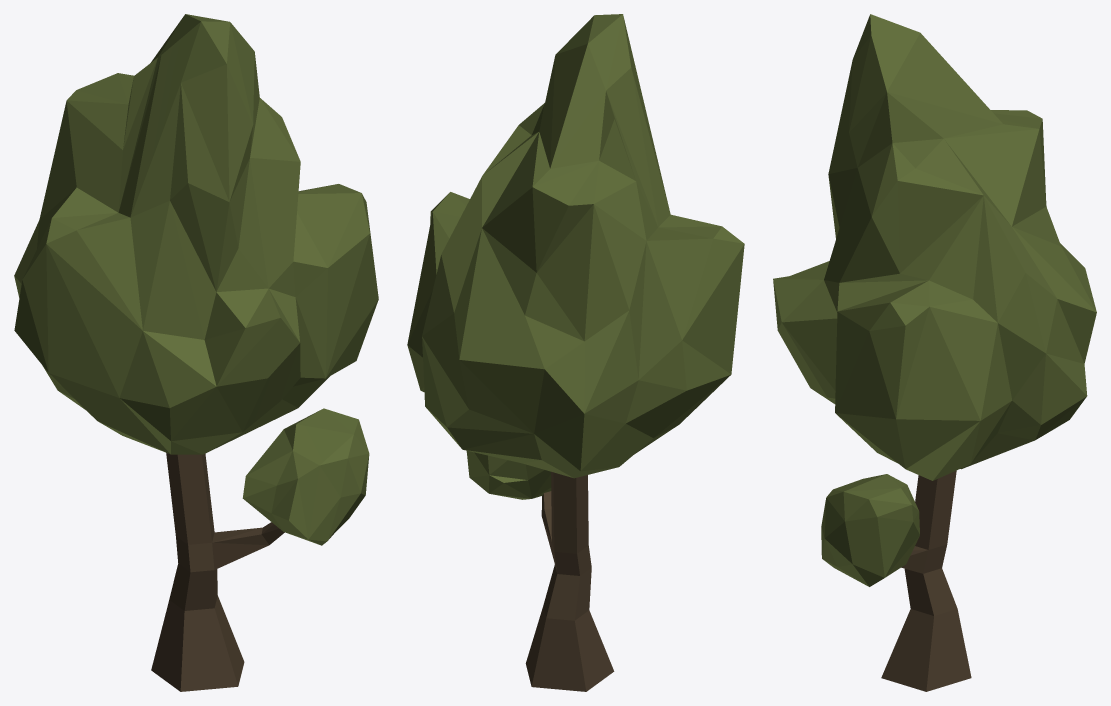
Rendered from SM_Env_Tree_08.gltf.
The picture shows the model from 3 angles, left to right: view 1: azimuth 30°, elevation 25°; view 2: azimuth 150°, elevation 25°; view 3: azimuth 270°, elevation 25°; orthographic projection. The views are drawn at different scales.
Visible parts, largest first — view 1: SM_Env_Tree_08; view 2: SM_Env_Tree_08; view 3: SM_Env_Tree_08.
Part boxes in pixels (box(x1,y1,x2,y2)): SM_Env_Tree_08: box(14, 14, 378, 691); SM_Env_Tree_08: box(407, 14, 744, 691); SM_Env_Tree_08: box(773, 14, 1096, 691).
Bounding box in the file's own units: 3.18 × 6.21 × 2.83.
Materials: 1 (1 with a texture image).
